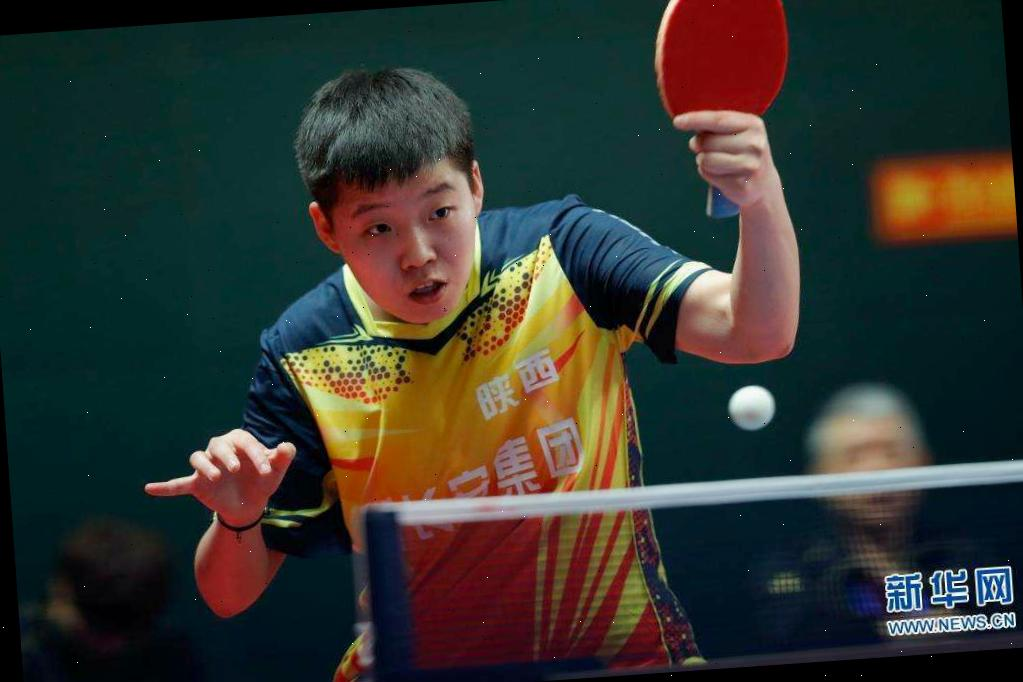ball: (720, 378, 778, 434)
